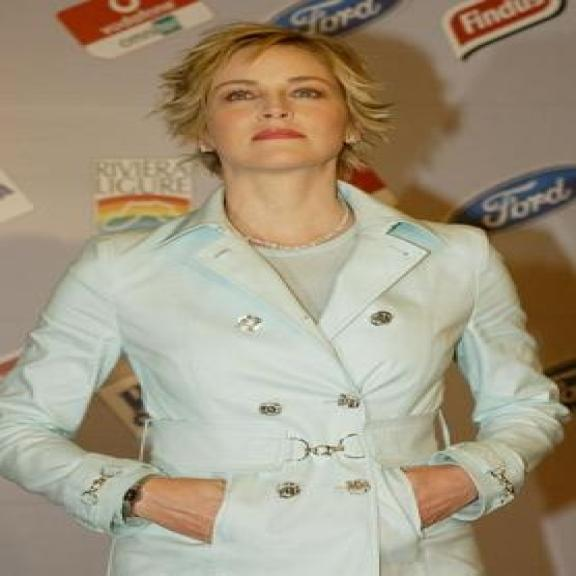face: (202, 51, 364, 180)
